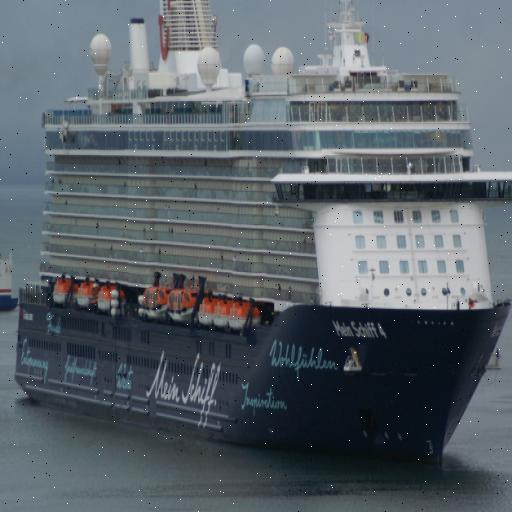cruises: (11, 1, 512, 474)
